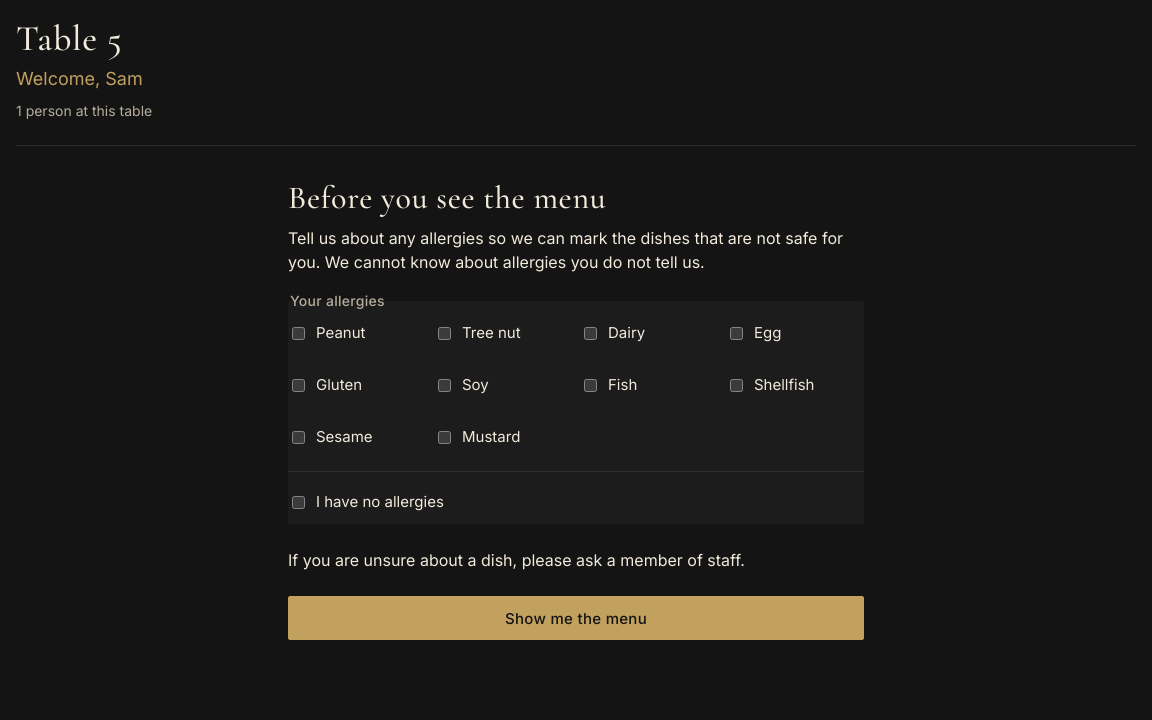
Scenario: GuestTable page › 6. Any other failure shows allergySaveFailed, keeps the form with Peanut still ticked, and never shows the server text
The image size is (1152, 720).
Click the checkbox labelled "Peanut" at {"x": 298, "y": 333}, box [292,326,305,340]
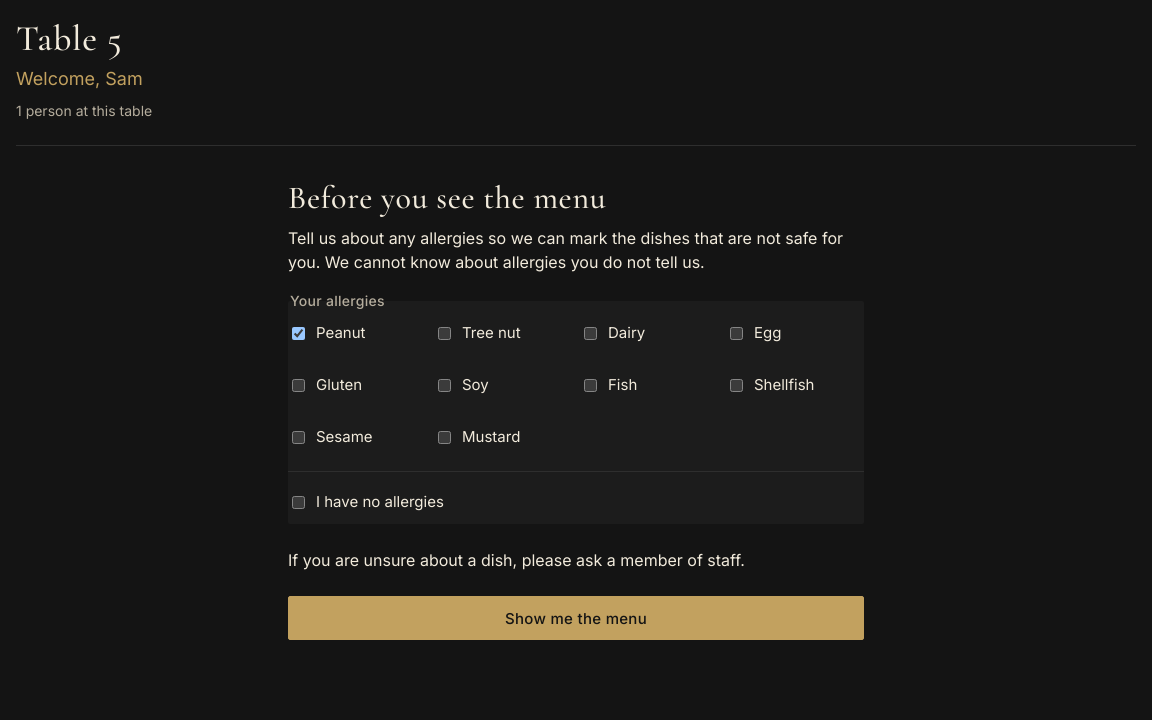
Click the button "Show me the menu" at {"x": 576, "y": 618}, box [288,596,864,640]
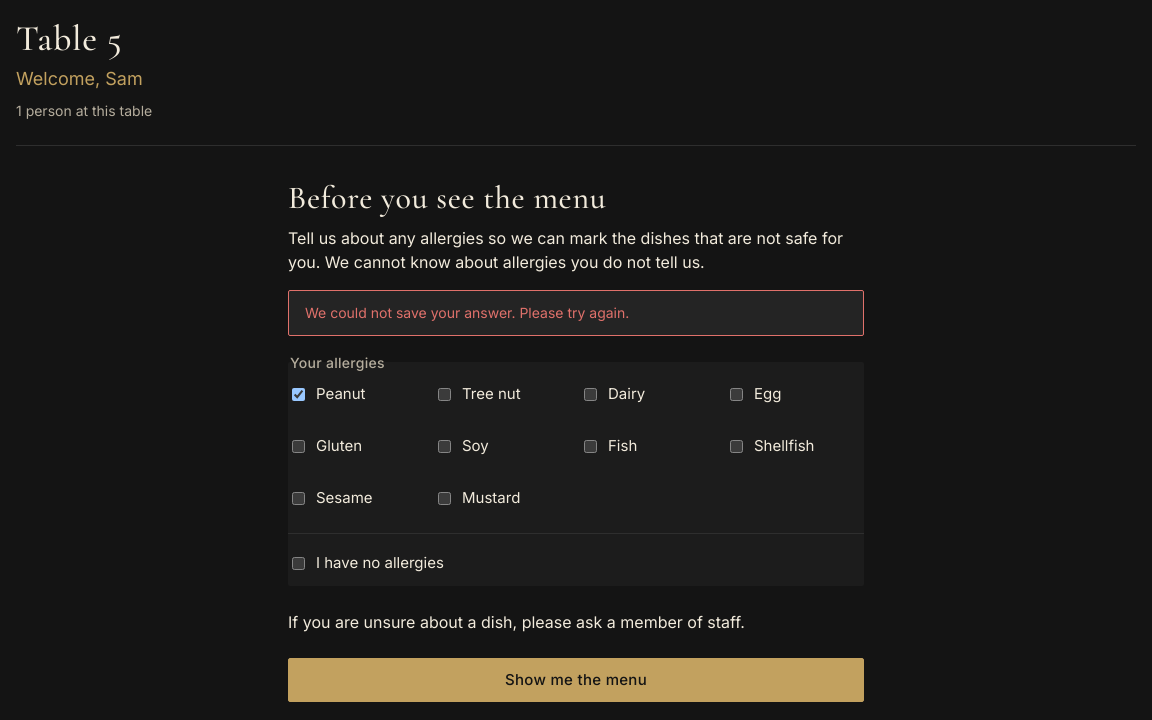
Result: the checkbox labelled "Peanut" is checked at [292,388,305,401]
Result: the text "We could not save your answer. Please try again." is shown at [288,290,864,336]
